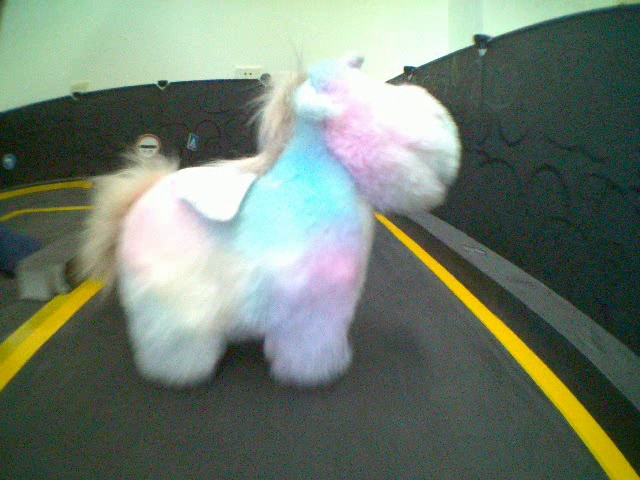unicorn: (74, 52, 462, 385)
